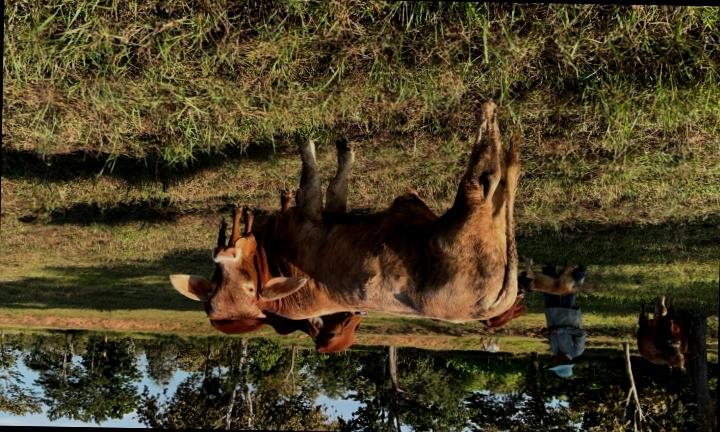Charolais: (169, 102, 519, 322)
